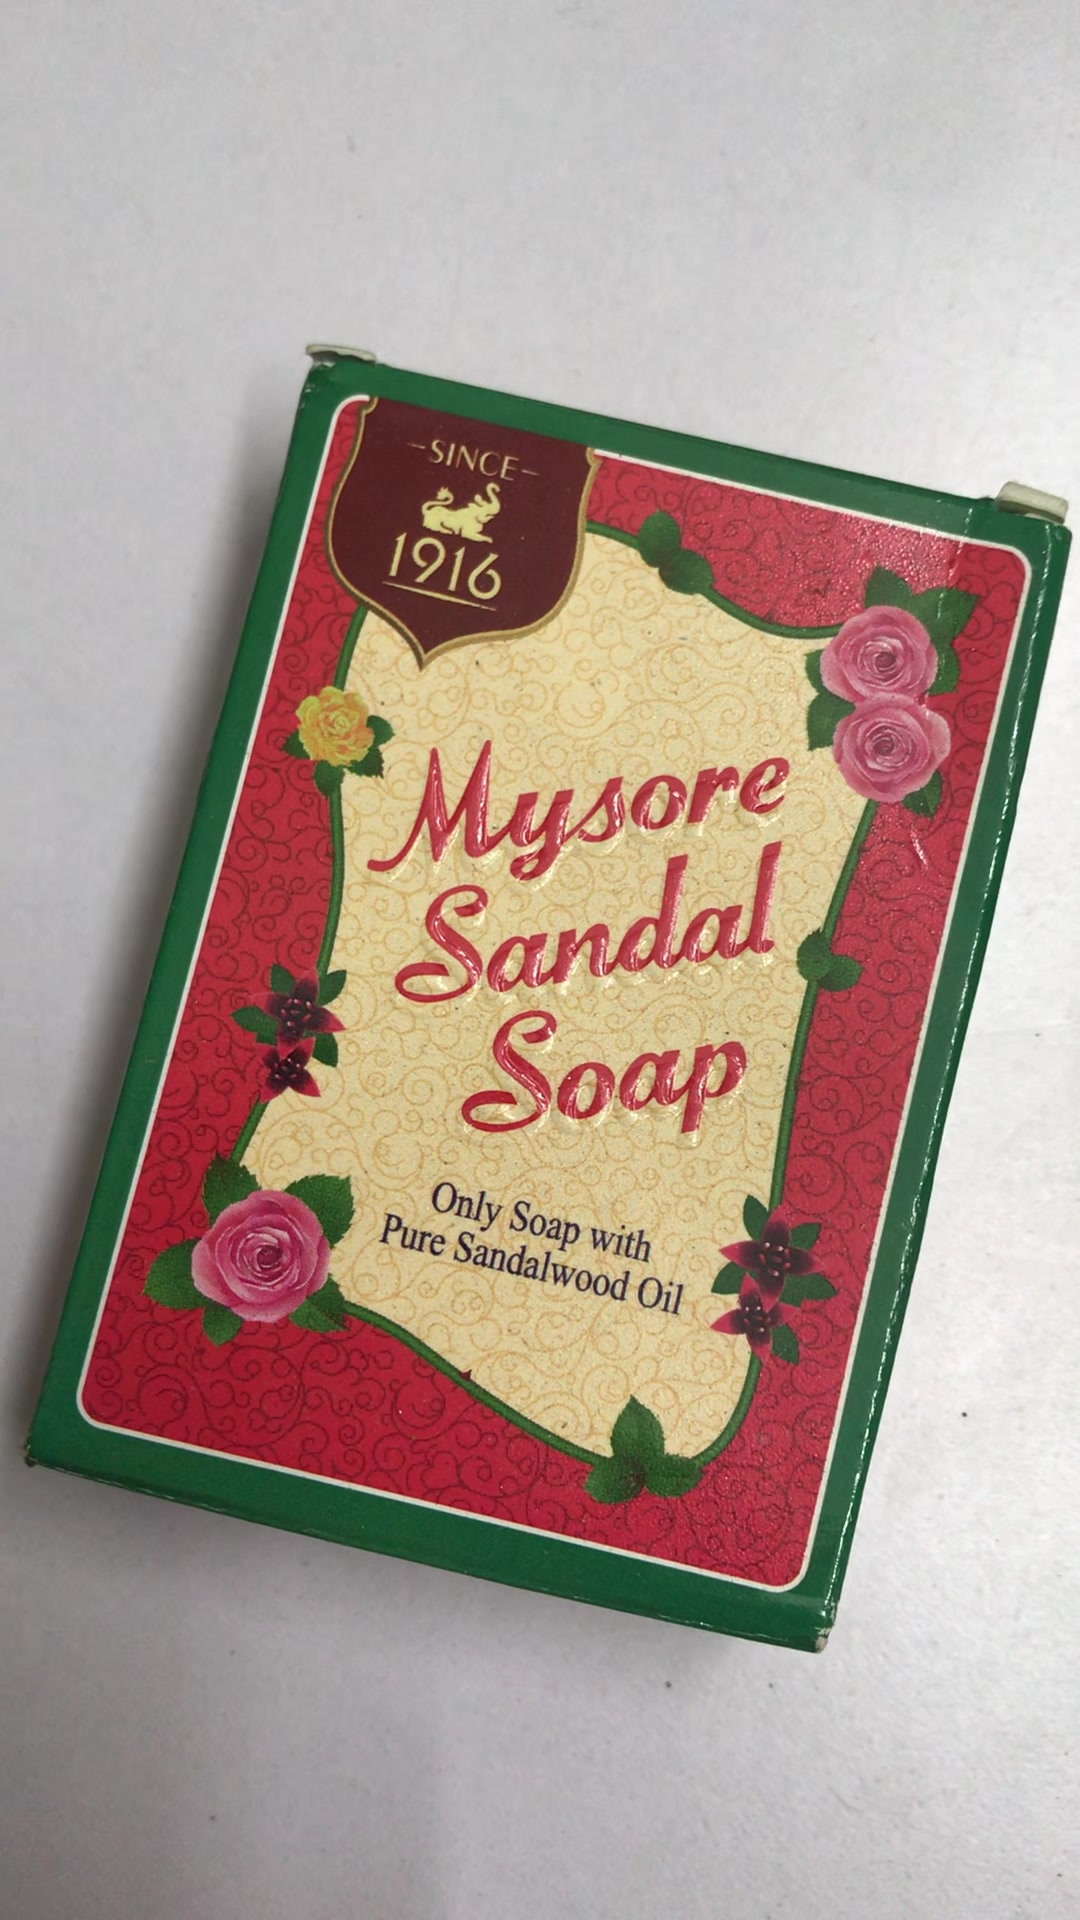mysore sandal soap: (20, 348, 1080, 1646)
